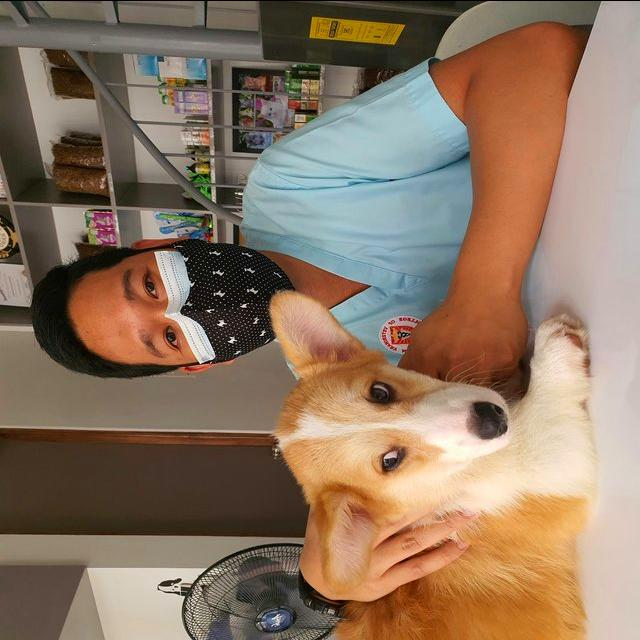corgi: (266, 288, 597, 639)
